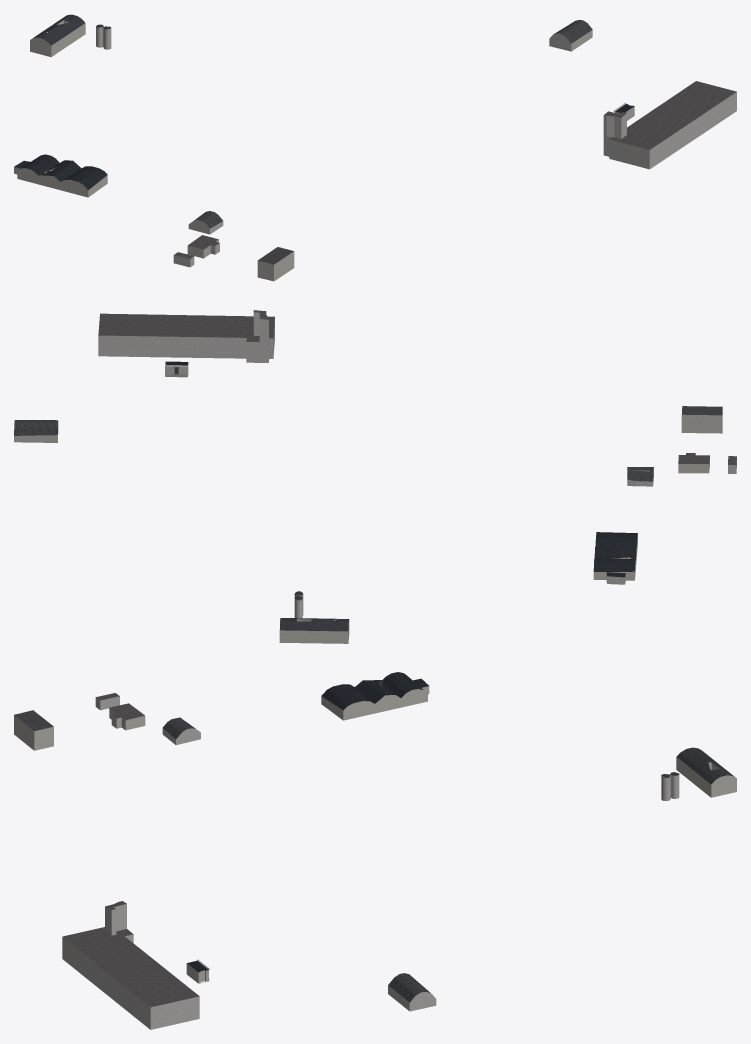
3 renders of one model, top to bottom at view 1: azimuth 30°, elevation 25°; view 2: azimuth 150°, elevation 25°; view 3: azimuth 270°, elevation 25°, orthographic. The views are drawn at different scales.
Parts seen in each view (by area): view 1: bldg_6003921247_roof, bldg_6003921247, bldg_6006778431_roof, bldg_6006778431, bldg_6003921230, bldg_6003921230_roof, bldg_6006778425, bldg_6003921251, bldg_6003921251_roof; view 2: bldg_6003921247, bldg_6003921247_roof, bldg_6006778431_roof, bldg_6003921230, bldg_6003921230_roof, bldg_6006778425, bldg_6003921251_roof; view 3: bldg_6003921247_roof, bldg_6003921247, bldg_6006778431_roof, bldg_6006778431, bldg_6003921230, bldg_6003921230_roof, bldg_6006778425, bldg_6003921251_roof, bldg_6003921251.
Boxes of the visible parts, x1,y1,x2,y2 form: bldg_6003921247_roof: (604,81,736,149); bldg_6003921247: (603,92,736,169); bldg_6006778431_roof: (14,154,107,190); bldg_6006778431: (14,167,107,197); bldg_6003921230: (30,20,85,57); bldg_6003921230_roof: (33,14,84,45); bldg_6006778425: (257,251,294,281); bldg_6003921251: (549,30,592,51); bldg_6003921251_roof: (554,20,592,43); bldg_6003921247: (98,311,274,362); bldg_6003921247_roof: (98,310,274,342); bldg_6006778431_roof: (593,532,637,577); bldg_6003921230: (279,618,349,643); bldg_6003921230_roof: (280,618,348,631); bldg_6006778425: (681,414,722,433); bldg_6003921251_roof: (14,420,57,435); bldg_6003921247_roof: (62,901,199,1007); bldg_6003921247: (62,904,199,1029); bldg_6006778431_roof: (321,672,428,710); bldg_6006778431: (321,680,429,720); bldg_6003921230: (676,757,736,797); bldg_6003921230_roof: (676,747,735,784); bldg_6006778425: (14,715,53,750); bldg_6003921251_roof: (388,973,430,1002); bldg_6003921251: (388,985,436,1011).
Bounding box in the file's own units: 220 × 14.29 × 195.
13 materials, 10 textured.
